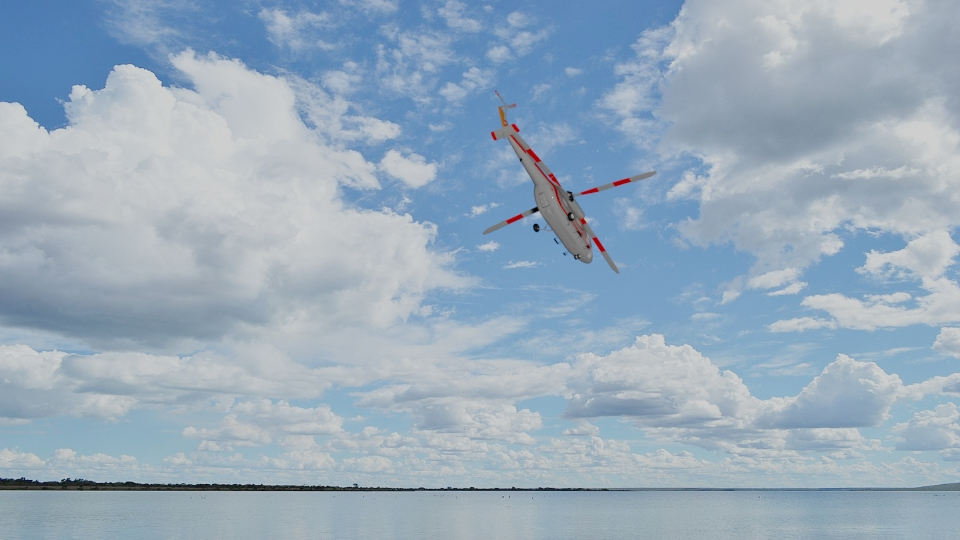heli: (481, 95, 662, 270)
